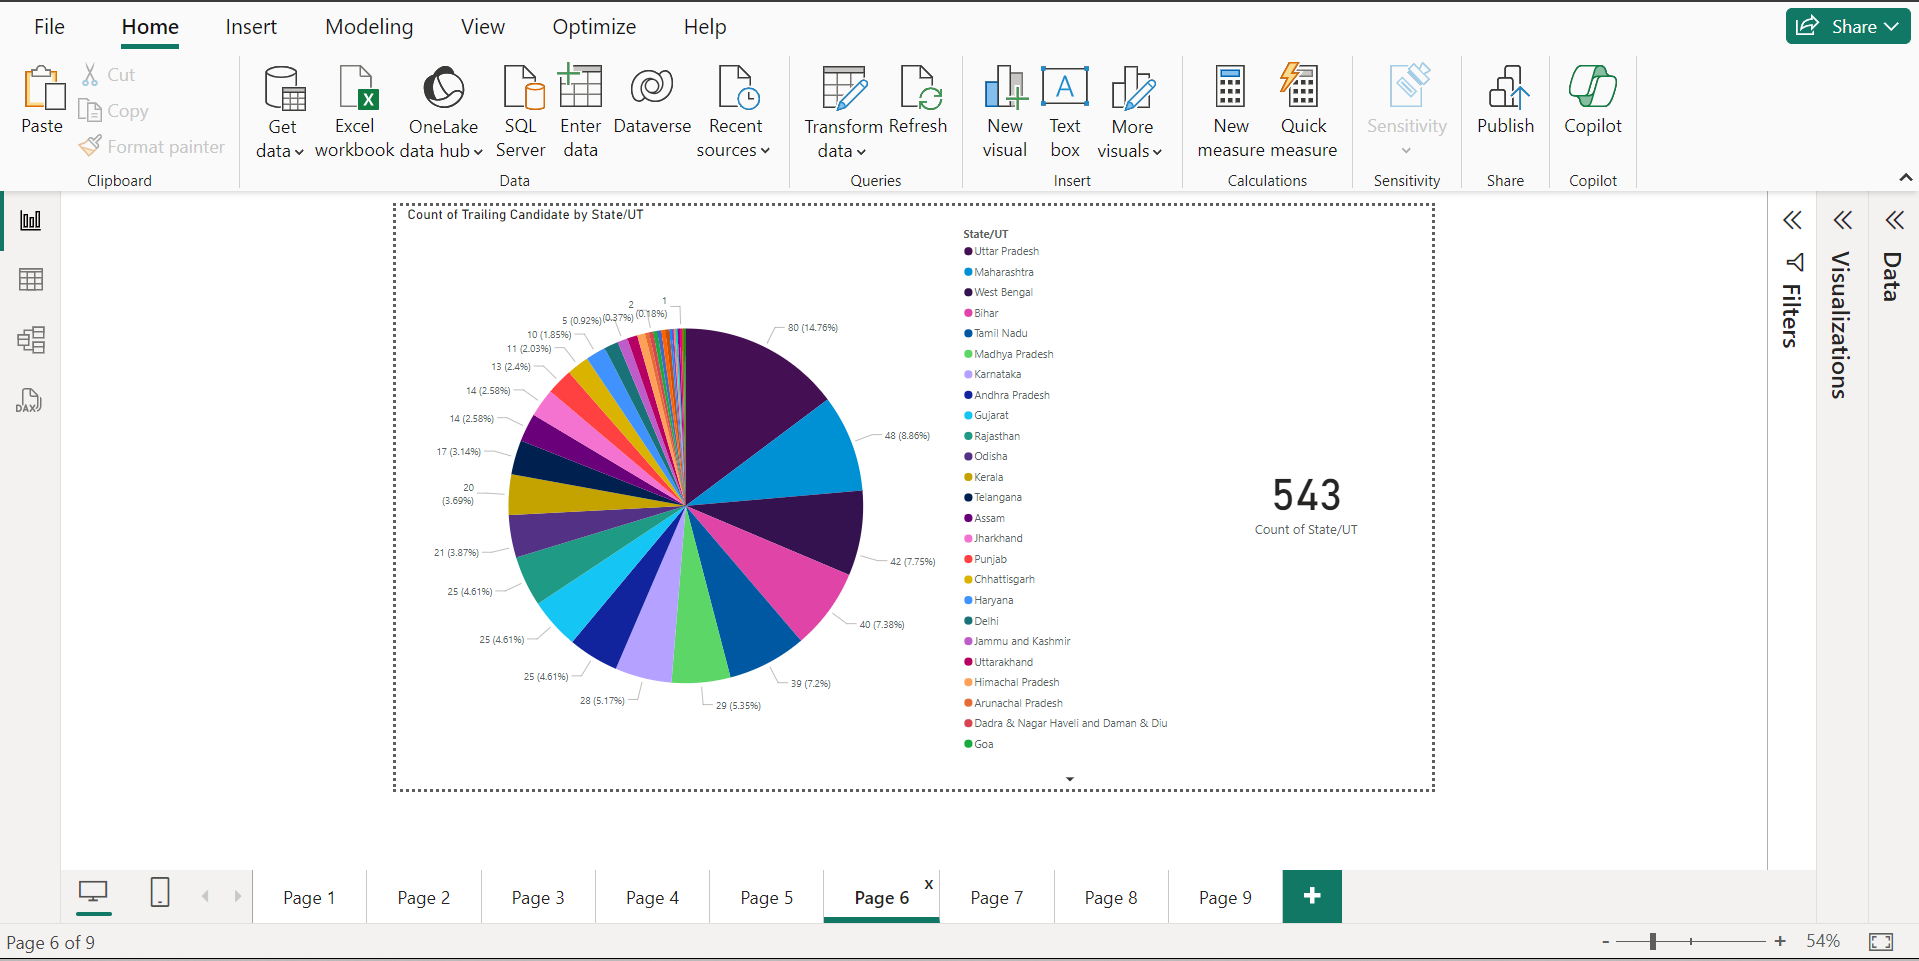

The page's visual inventory and layout, read from the dashboard file:
{"tool":"powerbi","page":{"name":"Page 6","canvas":[1280,720],"ordinal":5},"visuals":[{"type":"pieChart","fields":{"Category":["Sheet1.State/UT"],"Y":["CountNonNull(Sheet1.Trailing Candidate)"]},"box":[9.3,0,957.4,720.4],"z":0},{"type":"card","fields":{"Values":["CountNonNull(Sheet1.State/UT)"]},"box":[966.7,0,313,720.4],"z":1}]}

Visuals, with their boxes on the page's 1280x720 design canvas (x1, y1, x2, y2). These are canvas units, not pixel positions in the 1919x961 screenshot, which may show the page scaled, cropped or inside an application window:
pieChart - Sheet1.State/UT x CountNonNull(Sheet1.Trailing Candidate): box=[9, 0, 967, 720]
card - CountNonNull(Sheet1.State/UT): box=[967, 0, 1280, 720]
